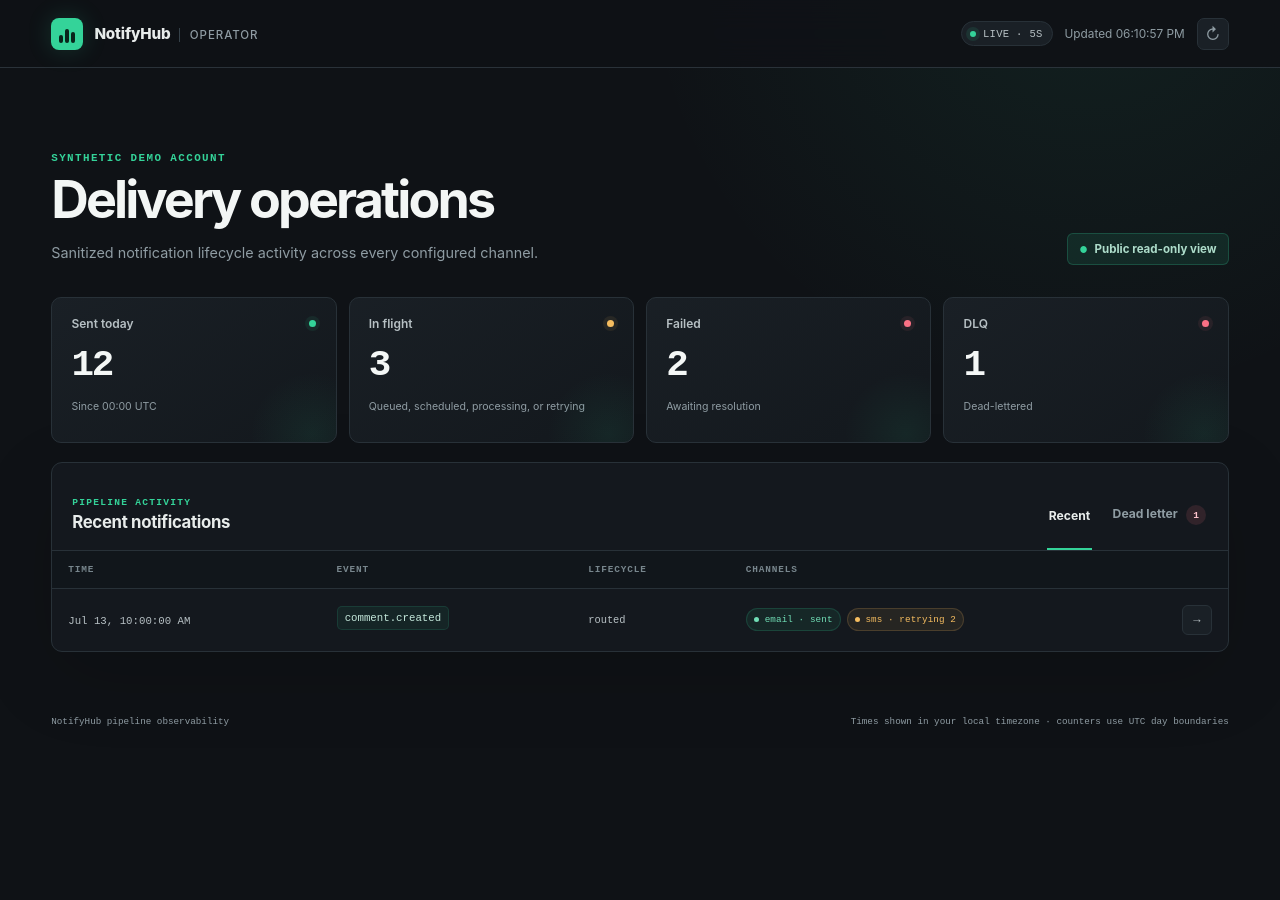
Test case: operator dashboard › ignores a stale pre-retry poll after the post-retry refresh completes
Click the tab "Dead letter 1" at (1159, 516), box [1111, 482, 1208, 550]
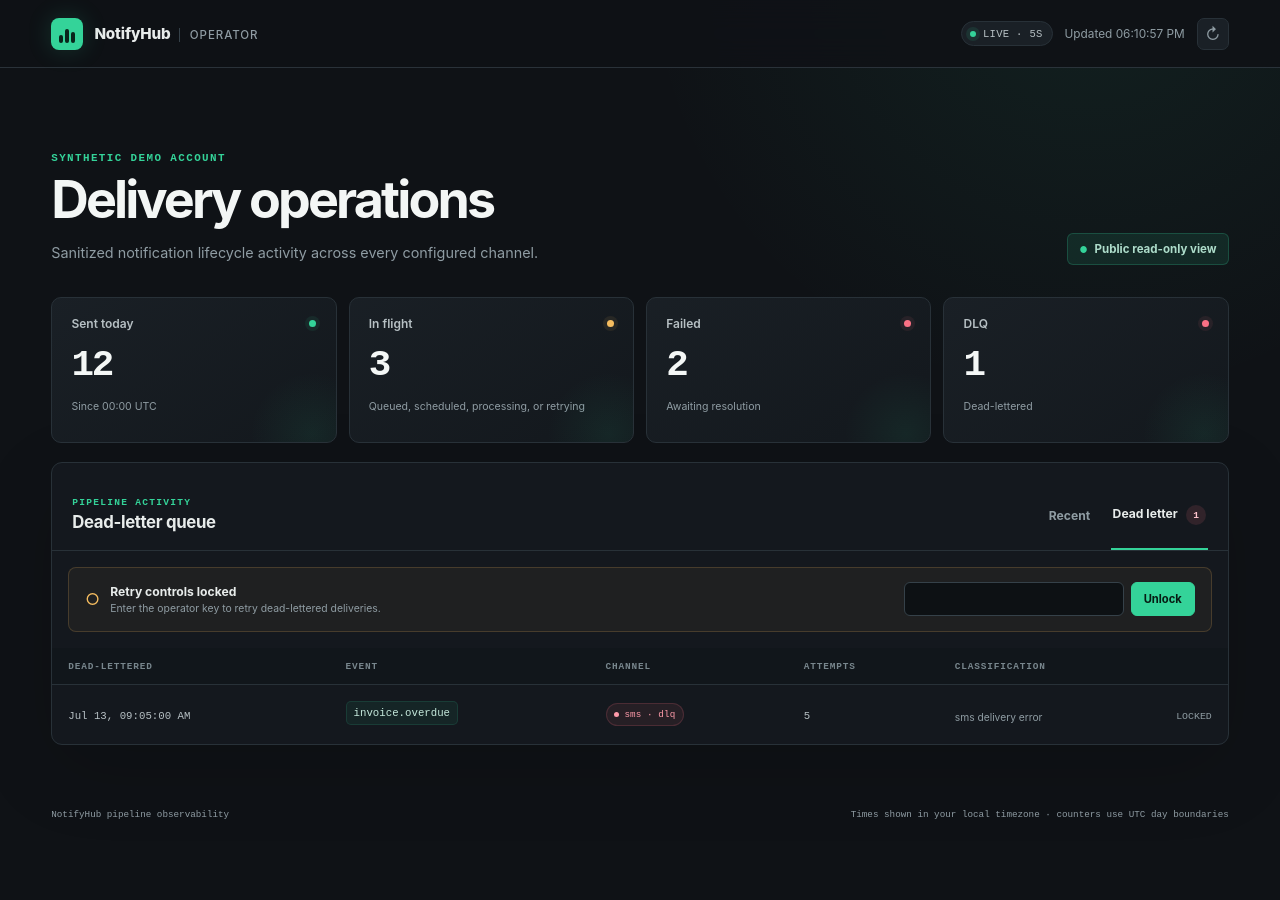
Type "memory-only-key" into the password field named "Operator key" at (1014, 599), box [904, 582, 1124, 616]
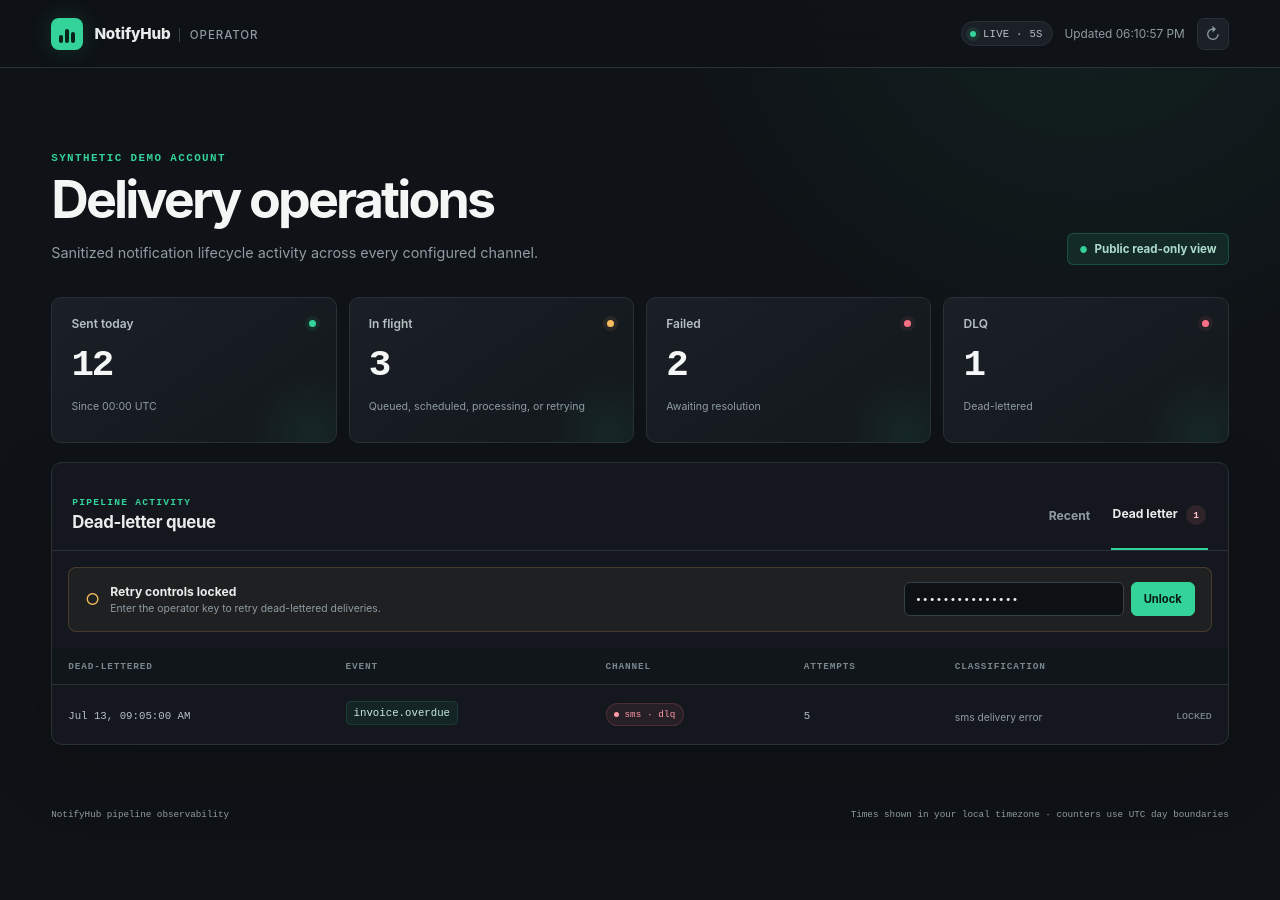
Submit the form named "Operator key", box [904, 582, 1195, 616]
Wait 5000 ms
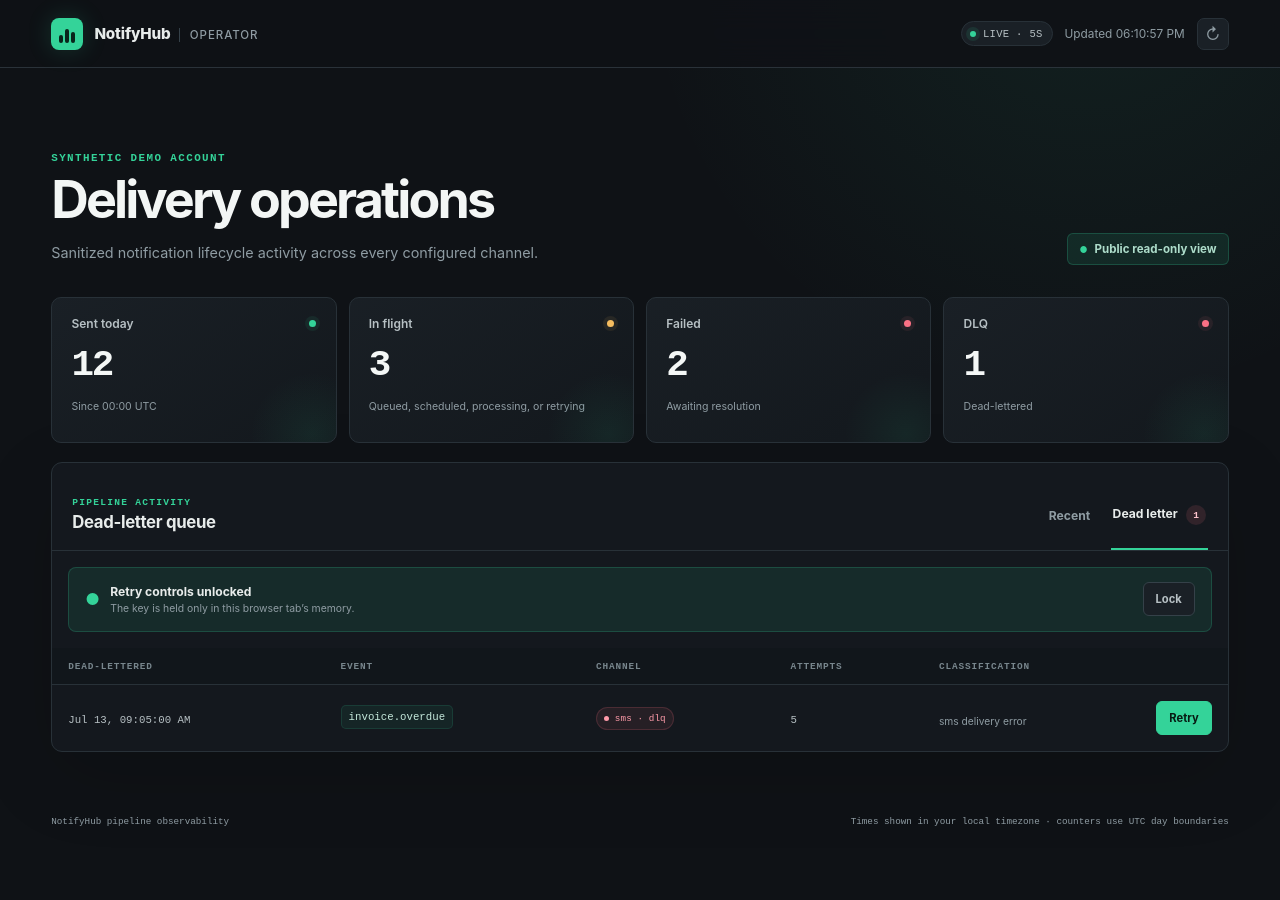
Click the button "Retry" at (1184, 718), box [1156, 701, 1212, 735]
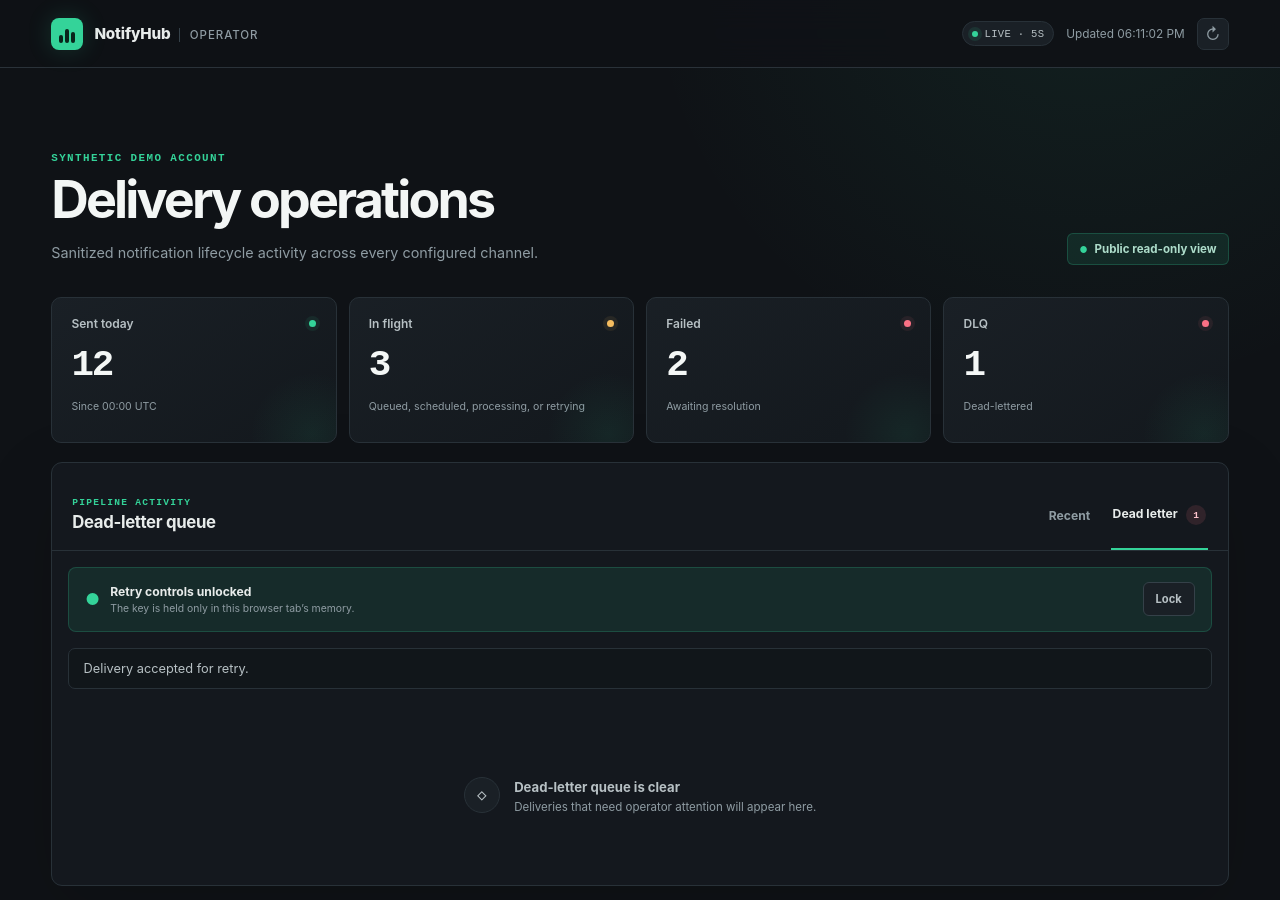
Check: the text "Dead-letter queue is clear" is shown, box [514, 779, 680, 795]
